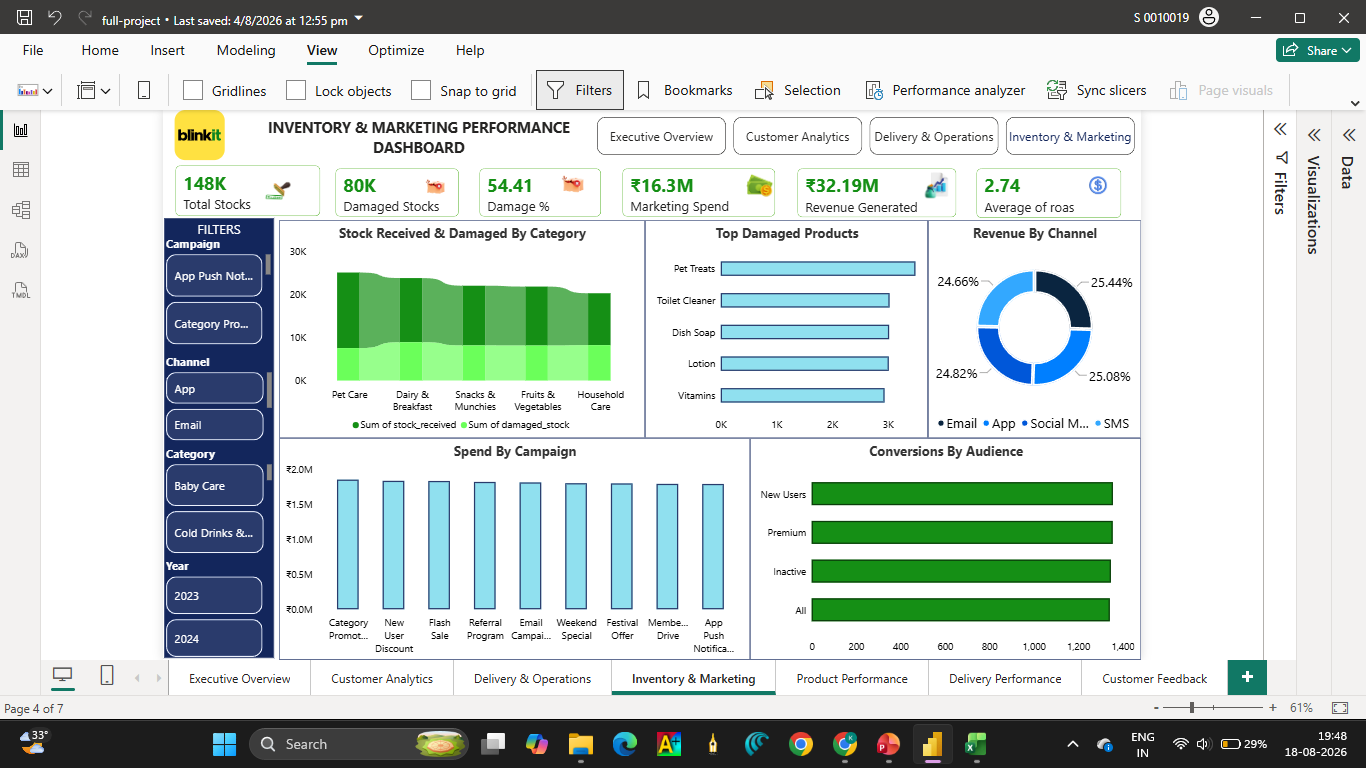

This screenshot's page, from the dashboard's own definition file:
{"tool":"powerbi","page":{"name":"Inventory  & Marketing","canvas":[1600,900],"ordinal":3},"visuals":[{"type":"shape","box":[0,175.1,183.3,723.3],"z":0},{"type":"cardVisual","fields":{"Data":["Sum(blinkit_inventory1.stock_received)"]},"box":[3.3,73.6,271,117.4],"z":1000,"group":"g8"},{"type":"ribbonChart","title":"Stock Received & Damaged By Category","fields":{"Category":["blinkit_products1.category"],"Y":["Sum(blinkit_inventory1.stock_received)","Sum(blinkit_inventory1.damaged_stock)"]},"box":[189.8,180,598.9,356.7],"z":1000},{"type":"group","id":"g1","title":"Group 1","box":[0,0,700.4,81.8],"z":2000},{"type":"cardVisual","fields":{"Data":["Sum(blinkit_inventory1.damaged_stock)"]},"box":[265.1,78.5,236.2,113],"z":2000,"group":"g9"},{"type":"cardVisual","fields":{"Data":["blinkit_customer_feedback1.damage %"]},"box":[500.7,78.5,234,113.5],"z":3000,"group":"g10"},{"type":"cardVisual","fields":{"Data":["Sum(blinkit_marketing_performance1.revenue_generated)"]},"box":[1021.1,78.5,294.5,114.5],"z":3000,"group":"g12"},{"type":"clusteredBarChart","title":"Top Damaged Products","fields":{"Category":["blinkit_products1.product_name"],"Y":["Sum(blinkit_inventory1.damaged_stock)"]},"box":[788.7,180,463.1,356.7],"z":3000},{"type":"cardVisual","fields":{"Data":["Avg(blinkit_marketing_performance1.roas)"]},"box":[1314,78.5,271.8,115.3],"z":4000,"group":"g13"},{"type":"clusteredColumnChart","title":"Spend By Campaign","fields":{"Category":["blinkit_marketing_performance1.campaign_name"],"Y":["Sum(blinkit_marketing_performance1.spend)"]},"box":[189.8,536.7,770.7,363.3],"z":4000},{"type":"clusteredBarChart","title":"Conversions By Audience","fields":{"Category":["blinkit_marketing_performance1.target_audience"],"Y":["CountNonNull(blinkit_marketing_performance1.conversions)"]},"box":[960.5,536.7,639.8,363.3],"z":5000},{"type":"cardVisual","fields":{"Data":["Sum(blinkit_marketing_performance1.spend)"]},"box":[734.7,78.5,284.4,113.4],"z":6000,"group":"g11"},{"type":"donutChart","title":"Revenue By Channel","fields":{"Category":["blinkit_marketing_performance1.channel"],"Y":["Sum(blinkit_marketing_performance1.revenue_generated)"]},"box":[1251.8,180,348.5,356.7],"z":6000},{"type":"group","id":"g2","title":"Group 2","box":[0,205.9,183.3,695.6],"z":7000},{"type":"group","id":"g3","title":"Group 3","box":[734.7,78.5,284.7,112.9],"z":8000},{"type":"group","id":"g4","title":"Group 4","box":[500.7,78.5,232.4,114.5],"z":9000},{"type":"image","box":[0,0,120.4,81.8],"z":10000,"group":"g1"},{"type":"group","id":"g5","title":"Group 5","box":[265.1,78.5,235.6,112.9],"z":10000},{"type":"group","id":"g6","title":"Group 6","box":[3.3,73.6,270,117.8],"z":11000},{"type":"group","id":"g7","title":"Group 7","box":[1021.1,78.5,292.9,114.5],"z":12000},{"type":"image","box":[428.4,106.2,33.6,38.4],"z":12000,"group":"g9"},{"type":"advancedSlicerVisual","title":"Campaign","fields":{"Values":["blinkit_marketing_performance1.campaign_name"]},"box":[0,205.9,181.6,184.9],"z":12000,"group":"g2"},{"type":"image","box":[1239.9,101,55.1,43.5],"z":12001,"group":"g12"},{"type":"image","box":[1514.4,95.7,33.3,53.6],"z":12003,"group":"g13"},{"type":"group","id":"g8","title":"Group 13","box":[3.3,73.6,271,117.4],"z":12005,"group":"g6"},{"type":"group","id":"g9","title":"Group 12","box":[265.1,78.5,236.2,113],"z":12005,"group":"g5"},{"type":"group","id":"g10","title":"Group 11","box":[500.7,78.5,234,113.5],"z":12005,"group":"g4"},{"type":"group","id":"g11","title":"Group 10","box":[734.7,78.5,284.7,112.9],"z":12005,"group":"g3"},{"type":"group","id":"g12","title":"Group 9","box":[1021.1,78.5,294.5,114.5],"z":12005,"group":"g7"},{"type":"textbox","box":[120.4,2.6,580,79.2],"z":13000,"group":"g1"},{"type":"group","id":"g13","title":"Group 8","box":[1314,78.5,271.6,114.5],"z":13000},{"type":"advancedSlicerVisual","title":"Channel","fields":{"Values":["blinkit_marketing_performance1.channel"]},"box":[0,399.2,183.3,148.9],"z":13000,"group":"g2"},{"type":"image","box":[650.6,96,39.1,49.3],"z":13001,"group":"g10"},{"type":"image","box":[153.9,97,72,69.7],"z":13004,"group":"g8"},{"type":"textbox","box":[0,175.1,183.3,50.7],"z":14000},{"type":"advancedSlicerVisual","title":"Category","fields":{"Values":["blinkit_products1.category"]},"box":[0,549.7,183.3,181.6],"z":14000,"group":"g2"},{"type":"pageNavigator","box":[710.2,11.5,883.6,62.2],"z":15000},{"type":"advancedSlicerVisual","title":"Year","fields":{"Values":["blinkit_orders1.order_date.Variation.Date Hierarchy.Year"]},"box":[0,733,168.5,168.5],"z":15000,"group":"g2"},{"type":"image","box":[946.9,102.2,58,44.9],"z":15003,"group":"g11"}]}

Visuals, with their boxes on the page's 1600x900 design canvas (x1, y1, x2, y2). These are canvas units, not pixel positions in the 1366x768 screenshot, which may show the page scaled, cropped or inside an application window:
shape: locate(0, 175, 183, 898)
cardVisual - Sum(blinkit_inventory1.stock_received): locate(3, 74, 274, 191)
"Stock Received & Damaged By Category" ribbonChart: locate(190, 180, 789, 537)
"Group 1" group: locate(0, 0, 700, 82)
cardVisual - Sum(blinkit_inventory1.damaged_stock): locate(265, 78, 501, 192)
cardVisual - blinkit_customer_feedback1.damage %: locate(501, 78, 735, 192)
cardVisual - Sum(blinkit_marketing_performance1.revenue_generated): locate(1021, 78, 1316, 193)
"Top Damaged Products" clusteredBarChart: locate(789, 180, 1252, 537)
cardVisual - Avg(blinkit_marketing_performance1.roas): locate(1314, 78, 1586, 194)
"Spend By Campaign" clusteredColumnChart: locate(190, 537, 960, 900)
"Conversions By Audience" clusteredBarChart: locate(960, 537, 1600, 900)
cardVisual - Sum(blinkit_marketing_performance1.spend): locate(735, 78, 1019, 192)
"Revenue By Channel" donutChart: locate(1252, 180, 1600, 537)
"Group 2" group: locate(0, 206, 183, 902)
"Group 3" group: locate(735, 78, 1019, 191)
"Group 4" group: locate(501, 78, 733, 193)
image: locate(0, 0, 120, 82)
"Group 5" group: locate(265, 78, 501, 191)
"Group 6" group: locate(3, 74, 273, 191)
"Group 7" group: locate(1021, 78, 1314, 193)
image: locate(428, 106, 462, 145)
"Campaign" advancedSlicerVisual: locate(0, 206, 182, 391)
image: locate(1240, 101, 1295, 144)
image: locate(1514, 96, 1548, 149)
"Group 13" group: locate(3, 74, 274, 191)
"Group 12" group: locate(265, 78, 501, 192)
"Group 11" group: locate(501, 78, 735, 192)
"Group 10" group: locate(735, 78, 1019, 191)
"Group 9" group: locate(1021, 78, 1316, 193)
textbox: locate(120, 3, 700, 82)
"Group 8" group: locate(1314, 78, 1586, 193)
"Channel" advancedSlicerVisual: locate(0, 399, 183, 548)
image: locate(651, 96, 690, 145)
image: locate(154, 97, 226, 167)
textbox: locate(0, 175, 183, 226)
"Category" advancedSlicerVisual: locate(0, 550, 183, 731)
pageNavigator: locate(710, 12, 1594, 74)
"Year" advancedSlicerVisual: locate(0, 733, 168, 902)
image: locate(947, 102, 1005, 147)
